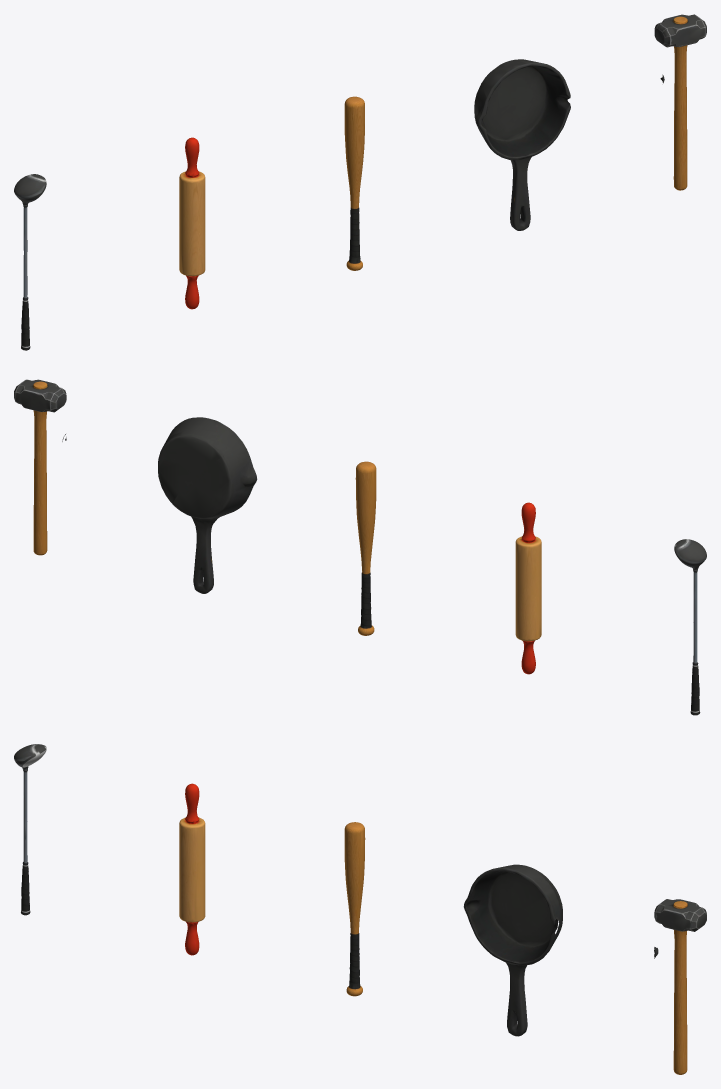
File: held-a.glb
The picture shows the model from 3 angles, top to bottom: view 1: azimuth 30°, elevation 25°; view 2: azimuth 150°, elevation 25°; view 3: azimuth 330°, elevation 25°; orthographic projection.
Visible parts, largest first — view 1: pan, rollingpin, sledge, bat, golfclub; view 2: pan, rollingpin, sledge, bat, golfclub; view 3: pan, rollingpin, sledge, bat, golfclub.
Boxes of the visible parts, box(x1,y1,x2,y2) form: pan: box(474, 59, 570, 230); rollingpin: box(179, 137, 205, 309); sledge: box(654, 14, 706, 190); bat: box(344, 96, 364, 270); golfclub: box(14, 174, 46, 350); pan: box(158, 417, 257, 593); rollingpin: box(515, 502, 541, 674); sledge: box(14, 379, 66, 555); bat: box(355, 461, 376, 635); golfclub: box(674, 539, 706, 715); pan: box(463, 864, 562, 1036); rollingpin: box(179, 783, 205, 955); sledge: box(654, 899, 706, 1074); bat: box(344, 822, 365, 996); golfclub: box(14, 744, 46, 915).
Bounding box in the file's own units: 4.22 × 1 × 0.1888.
1 material, 1 textured.
